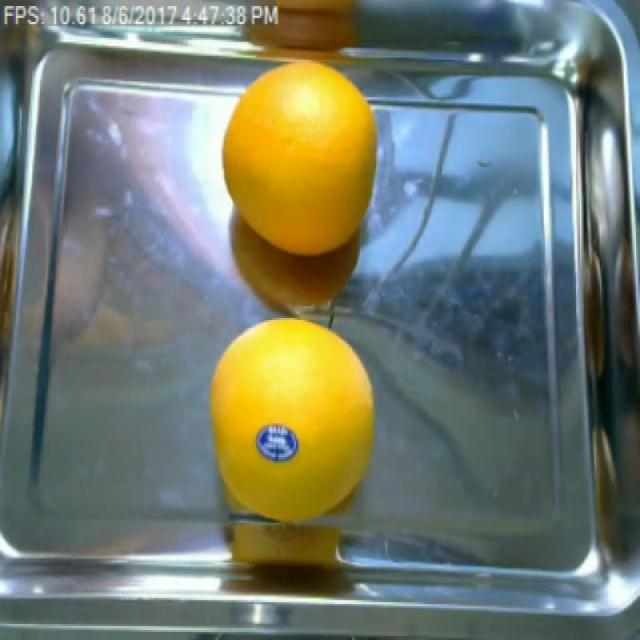Fruit: (208, 50, 389, 254), (252, 417, 301, 469)
